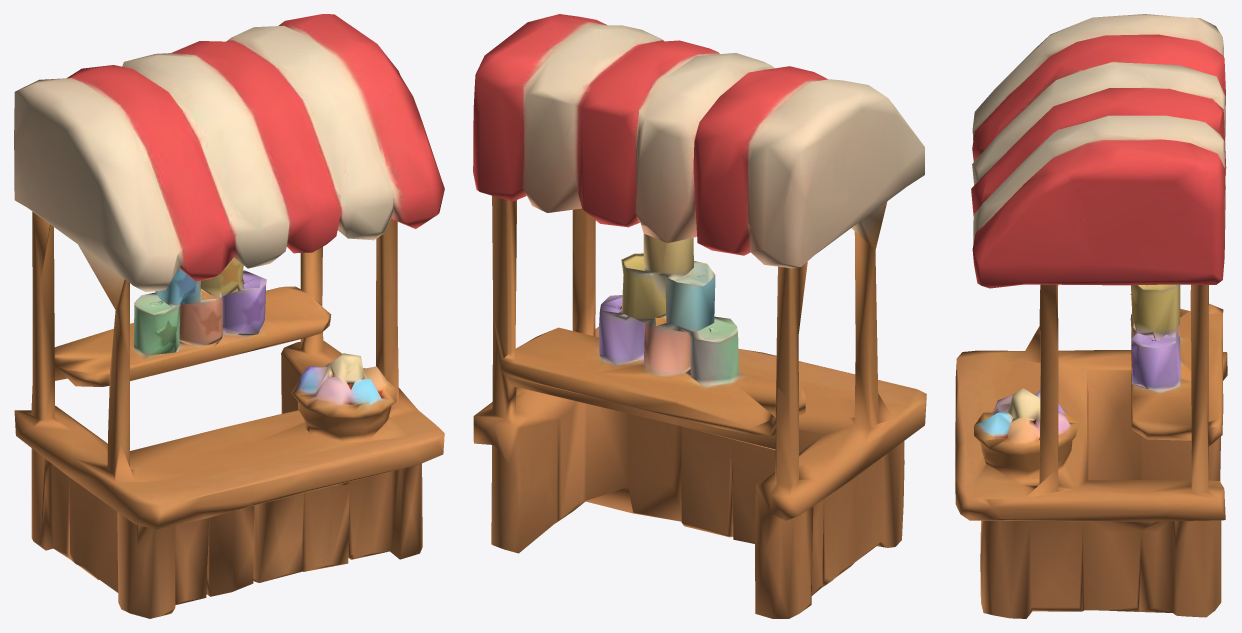
File: stand-chamboule.glb
The picture shows the model from 3 angles, left to right: view 1: azimuth 30°, elevation 25°; view 2: azimuth 150°, elevation 25°; view 3: azimuth 270°, elevation 25°; orthographic projection. The views are drawn at different scales.
Parts seen in each view (by area): view 1: tripo_node_04e2543b-33c7-4fb8-9c56-a5a32510c185; view 2: tripo_node_04e2543b-33c7-4fb8-9c56-a5a32510c185; view 3: tripo_node_04e2543b-33c7-4fb8-9c56-a5a32510c185.
Boxes of the visible parts, x1,y1,x2,y2 form: tripo_node_04e2543b-33c7-4fb8-9c56-a5a32510c185: (14,14,444,618); tripo_node_04e2543b-33c7-4fb8-9c56-a5a32510c185: (473,14,926,618); tripo_node_04e2543b-33c7-4fb8-9c56-a5a32510c185: (955,14,1227,618).
Bounding box in the file's own units: 0.7063 × 1 × 0.528.
1 material, 1 textured.
